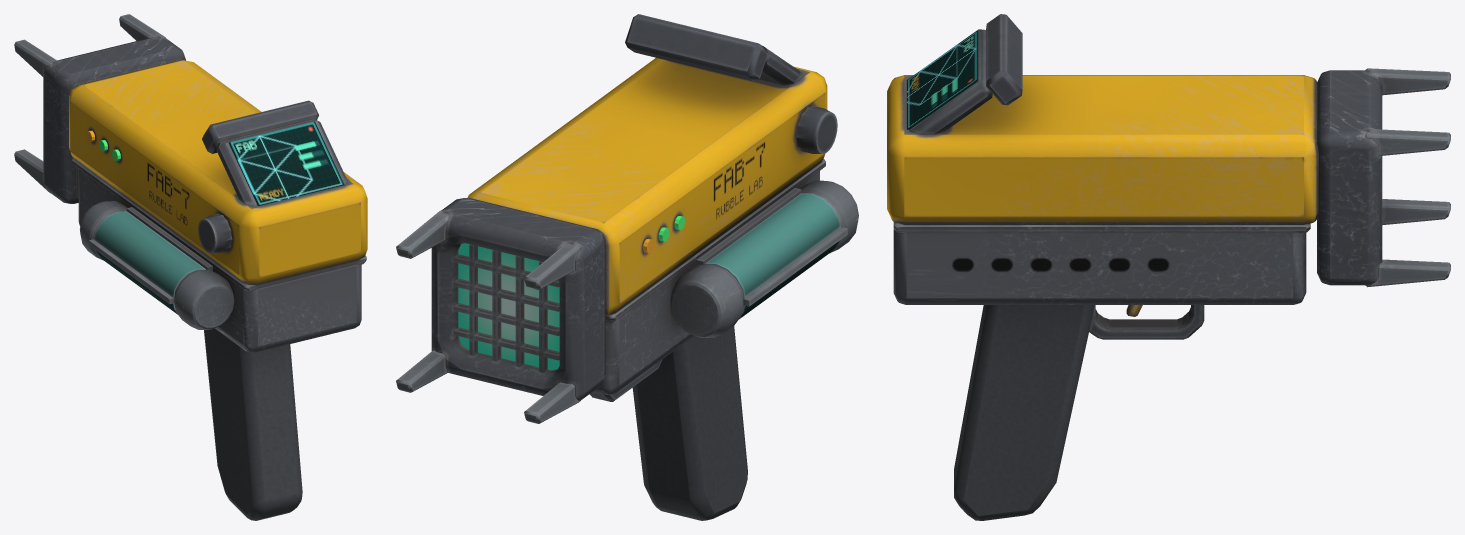
File: spawner.glb
The picture shows the model from 3 angles, left to right: view 1: azimuth 30°, elevation 25°; view 2: azimuth 150°, elevation 25°; view 3: azimuth 270°, elevation 25°; orthographic projection. The views are drawn at different scales.
Visible parts, largest first — view 1: spawner; view 2: spawner; view 3: spawner.
Part boxes in pixels (bbox=[...]): spawner: bbox=[14, 14, 367, 520]; spawner: bbox=[396, 14, 858, 520]; spawner: bbox=[887, 14, 1450, 520].
Size of the model in its own units: 0.1076 by 0.2381 by 0.2596.
Materials: 11 (11 with a texture image).
